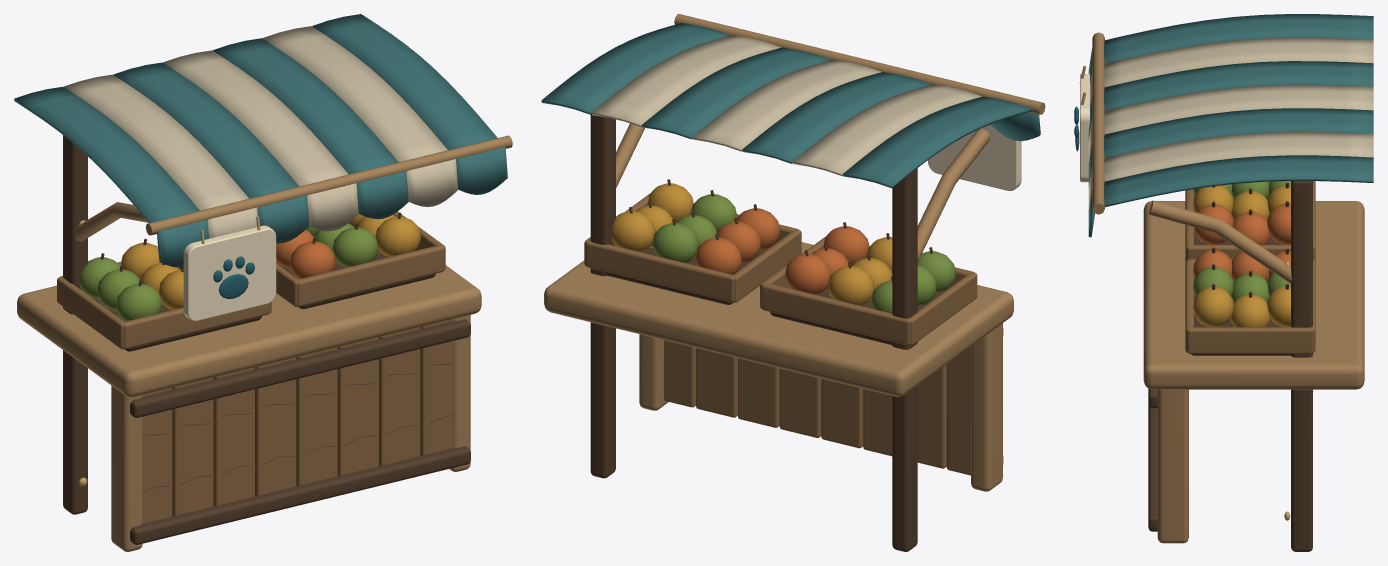
File: market_stall_atelier.glb
3 renders of one model, left to right at view 1: azimuth 30°, elevation 25°; view 2: azimuth 150°, elevation 25°; view 3: azimuth 270°, elevation 25°, orthographic. The views are drawn at different scales.
Visible parts, largest first — view 1: market_stall_atelier__TaggedPainted_Market_Matte, market_stall_atelier__Painted_Market_Glaze; view 2: market_stall_atelier__TaggedPainted_Market_Matte, market_stall_atelier__Painted_Market_Glaze; view 3: market_stall_atelier__TaggedPainted_Market_Matte, market_stall_atelier__Painted_Market_Glaze.
Boxes of the visible parts, x1=… form: market_stall_atelier__TaggedPainted_Market_Matte: x1=14, y1=14, x2=512, y2=551; market_stall_atelier__Painted_Market_Glaze: x1=183, y1=225, x2=276, y2=321; market_stall_atelier__TaggedPainted_Market_Matte: x1=541, y1=14, x2=1045, y2=551; market_stall_atelier__Painted_Market_Glaze: x1=928, y1=124, x2=1021, y2=190; market_stall_atelier__TaggedPainted_Market_Matte: x1=1088, y1=14, x2=1373, y2=551; market_stall_atelier__Painted_Market_Glaze: x1=1074, y1=74, x2=1089, y2=182.
Size of the model in its own units: 2.2 by 2.3 by 1.63.
